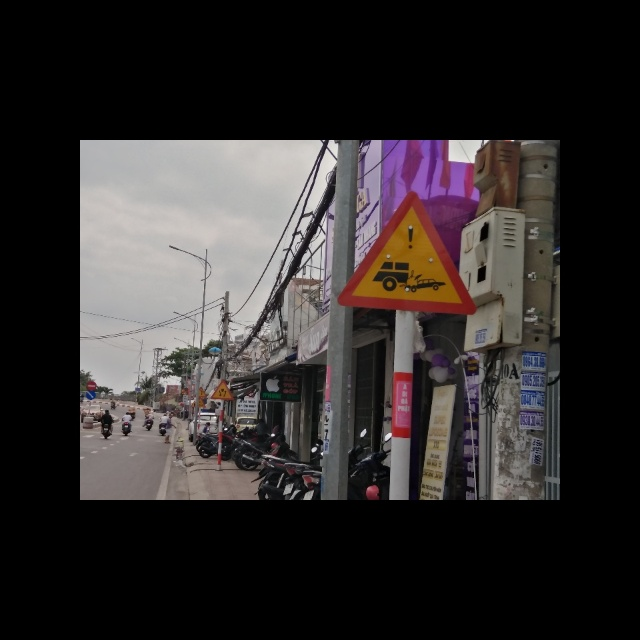Đoạn đường hay xảy ra tai nạn: (334, 192, 478, 315)
Đường đôi: (209, 377, 235, 400)
